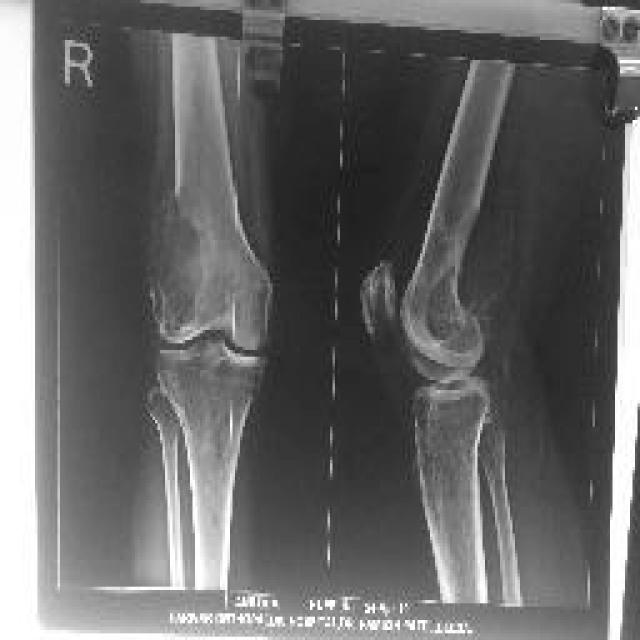bone-cancer: (150, 197, 214, 344), (419, 214, 484, 358)
